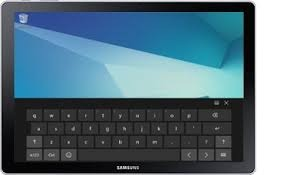keyboard: (2, 103, 237, 162)
